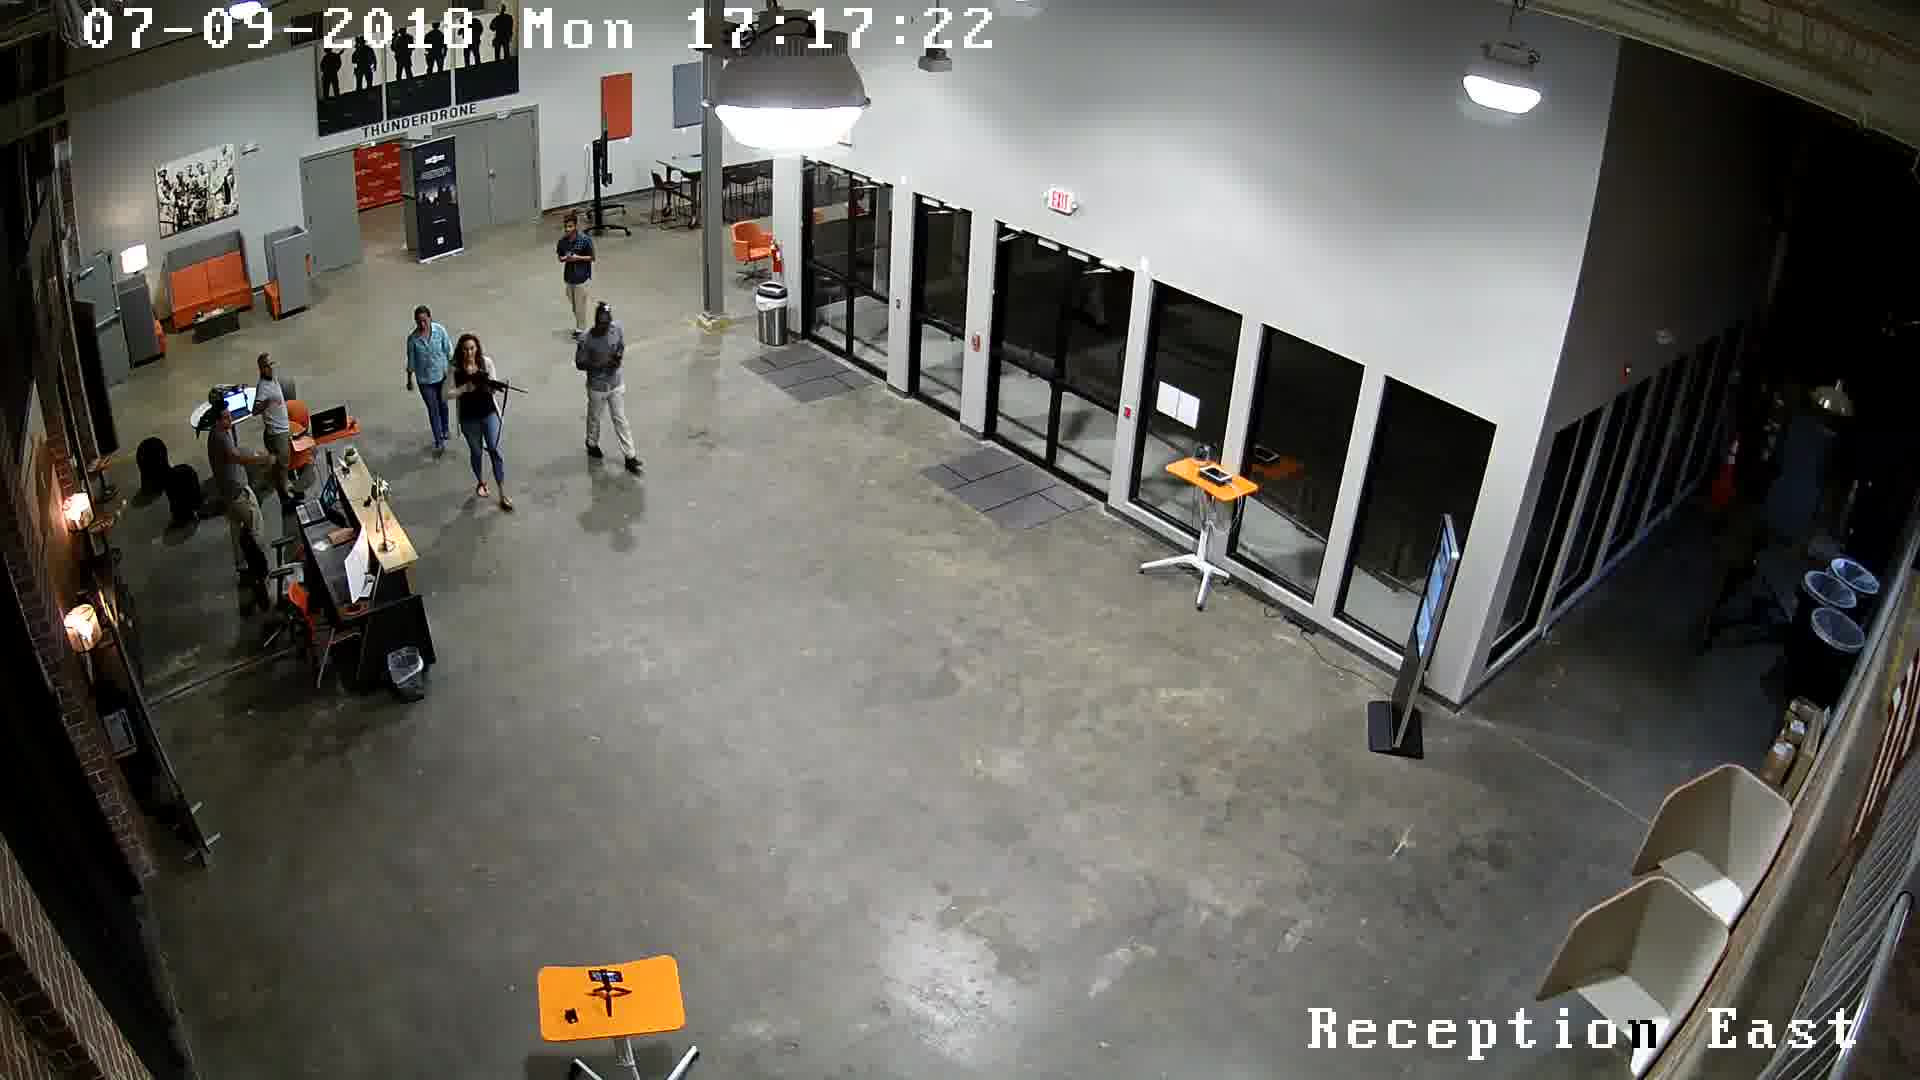pistol: (595, 353, 633, 385), (556, 247, 580, 269)
